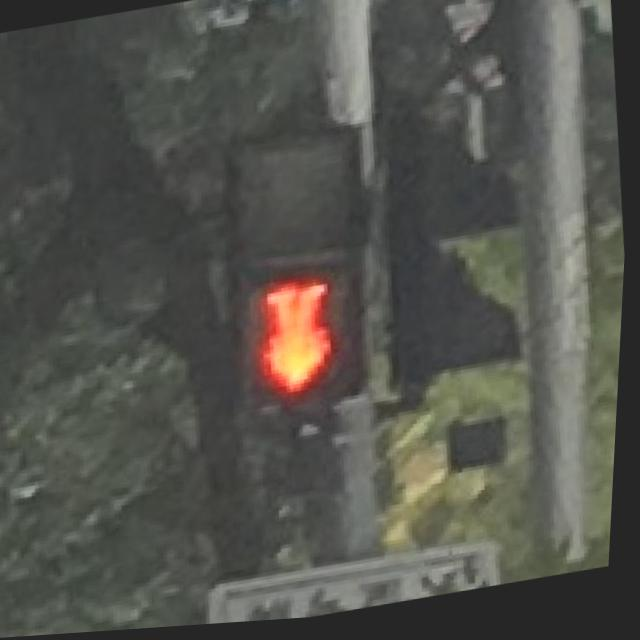red_light: (234, 264, 373, 417)
